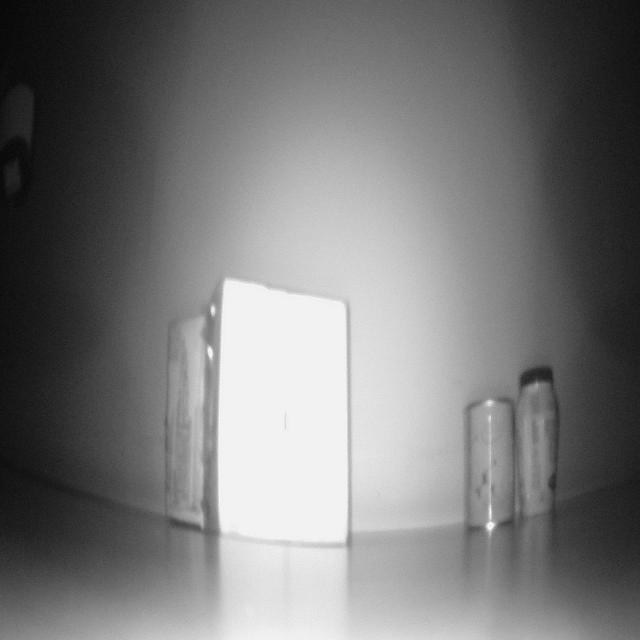targets: (162, 284, 353, 552), (512, 364, 561, 514), (468, 396, 514, 528)
